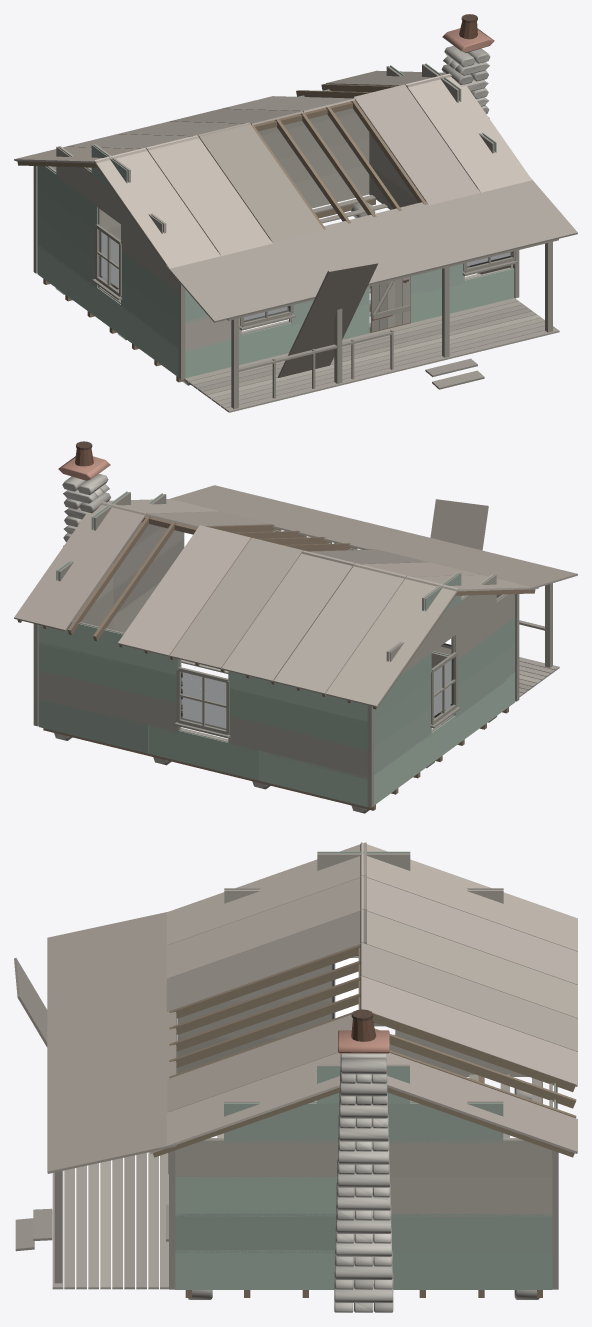
The model's file is cabin_abandoned_a_broken_roof_lod2.glb.
3 renders of one model, top to bottom at view 1: azimuth 30°, elevation 25°; view 2: azimuth 150°, elevation 25°; view 3: azimuth 270°, elevation 25°, orthographic. The views are drawn at different scales.
Parts seen in each view (by area): view 1: body, door, windows, window_light; view 2: body, windows, window_light; view 3: body, window_light.
Part boxes in pixels (x1,y1,x2,y2): body: (14,14,577,412); door: (370,276,410,331); windows: (99,230,512,322); window_light: (101,232,510,320); body: (14,441,577,813); windows: (181,643,453,729); window_light: (182,532,451,728); body: (14,842,577,1312); window_light: (335,958,358,1017).
Size of what is drawn, in the model's own units: 9.46 by 5.47 by 8.96.
